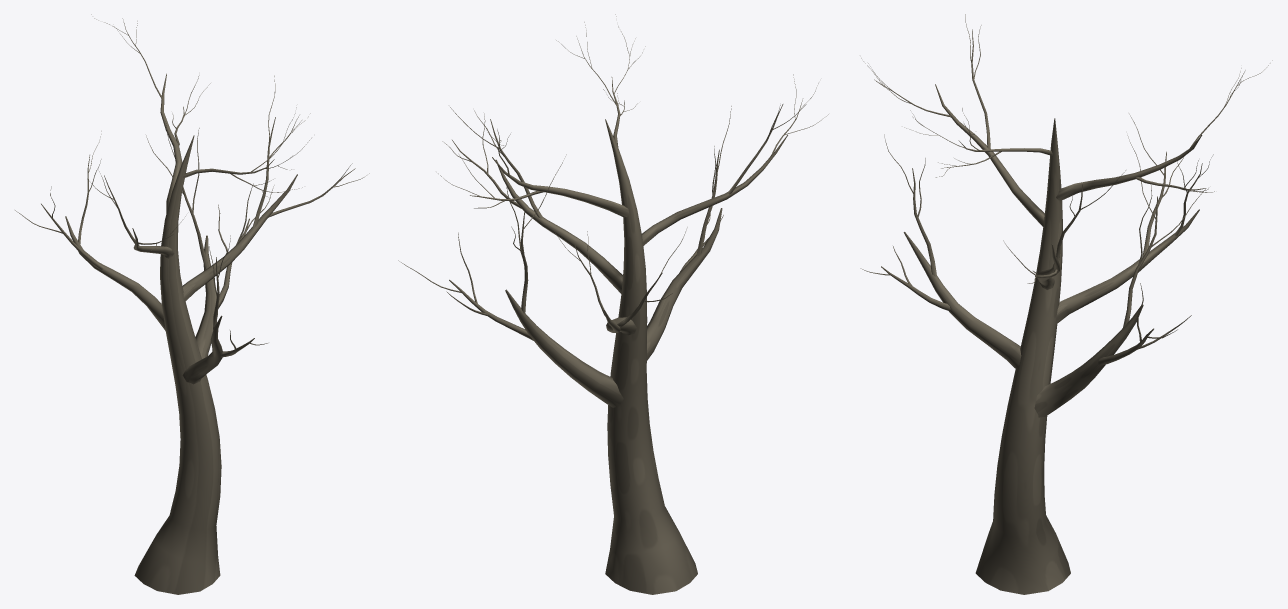
Rendered from tree.gltf.
The picture shows the model from 3 angles, left to right: view 1: azimuth 30°, elevation 25°; view 2: azimuth 150°, elevation 25°; view 3: azimuth 270°, elevation 25°; orthographic projection. The views are drawn at different scales.
Parts seen in each view (by area): view 1: Tree_LOD0; view 2: Tree_LOD0; view 3: Tree_LOD0.
Boxes of the visible parts, x1,y1,x2,y2 form: Tree_LOD0: (15,14,369,594); Tree_LOD0: (398,14,828,594); Tree_LOD0: (860,14,1272,594).
Bounding box in the file's own units: 11.53 × 16.8 × 11.97.
1 material, 1 textured.
